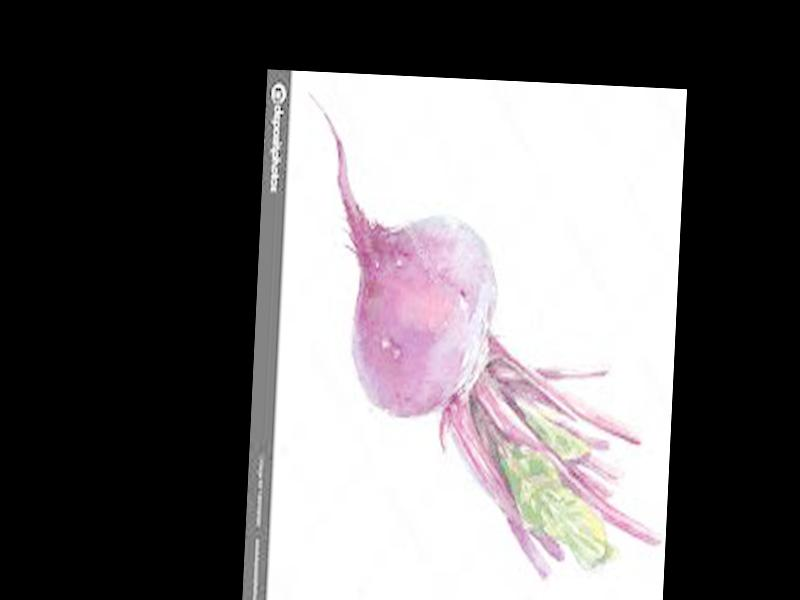Beet: (287, 94, 681, 584)
